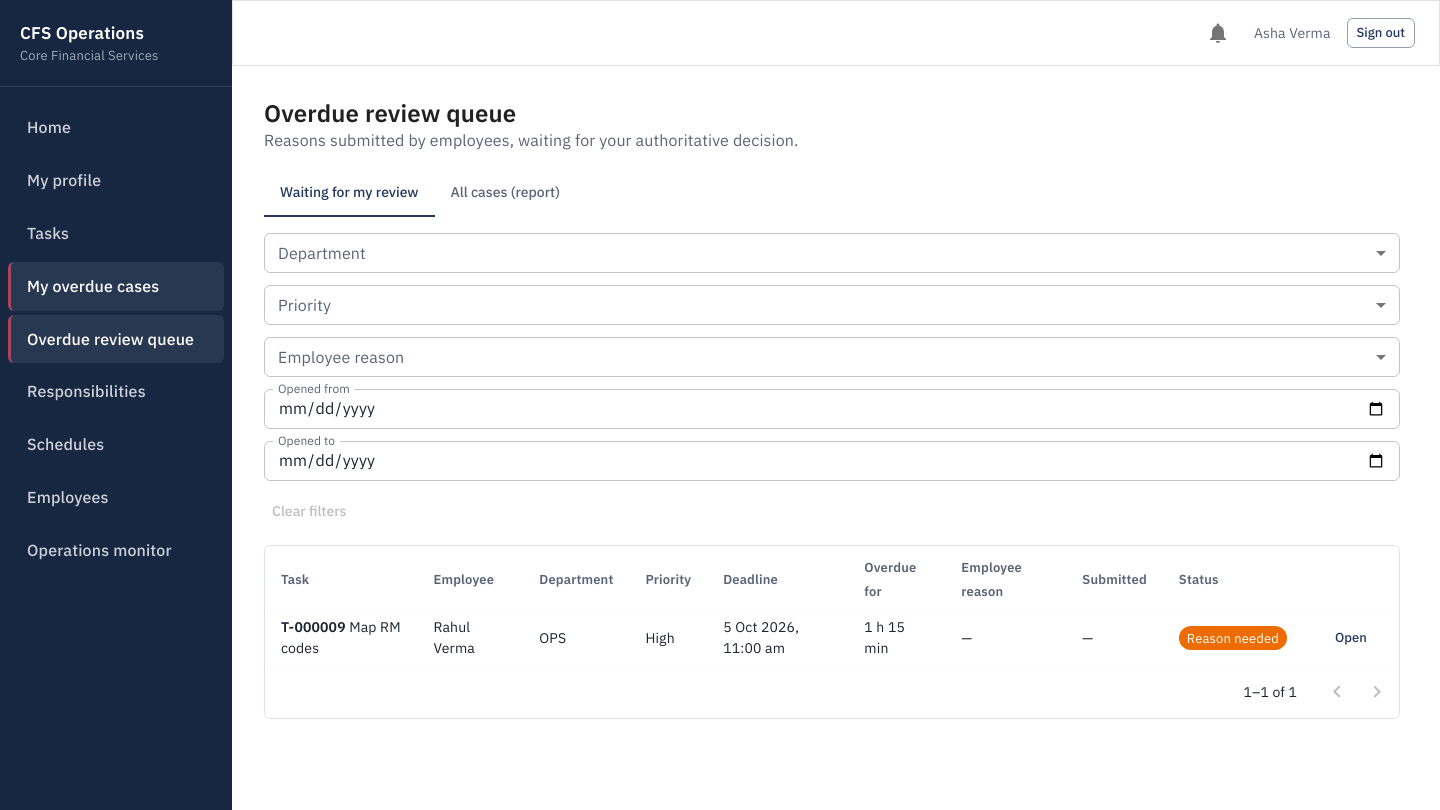
Test: Overdue report and export (Stage 5.3) › an Operations Manager sees the scoped report but no export controls
What coordinates should you click on to do the following:
click the tab "All cases (report)"
I would click on:
 (505, 193)
Its box is [435,169,576,217].
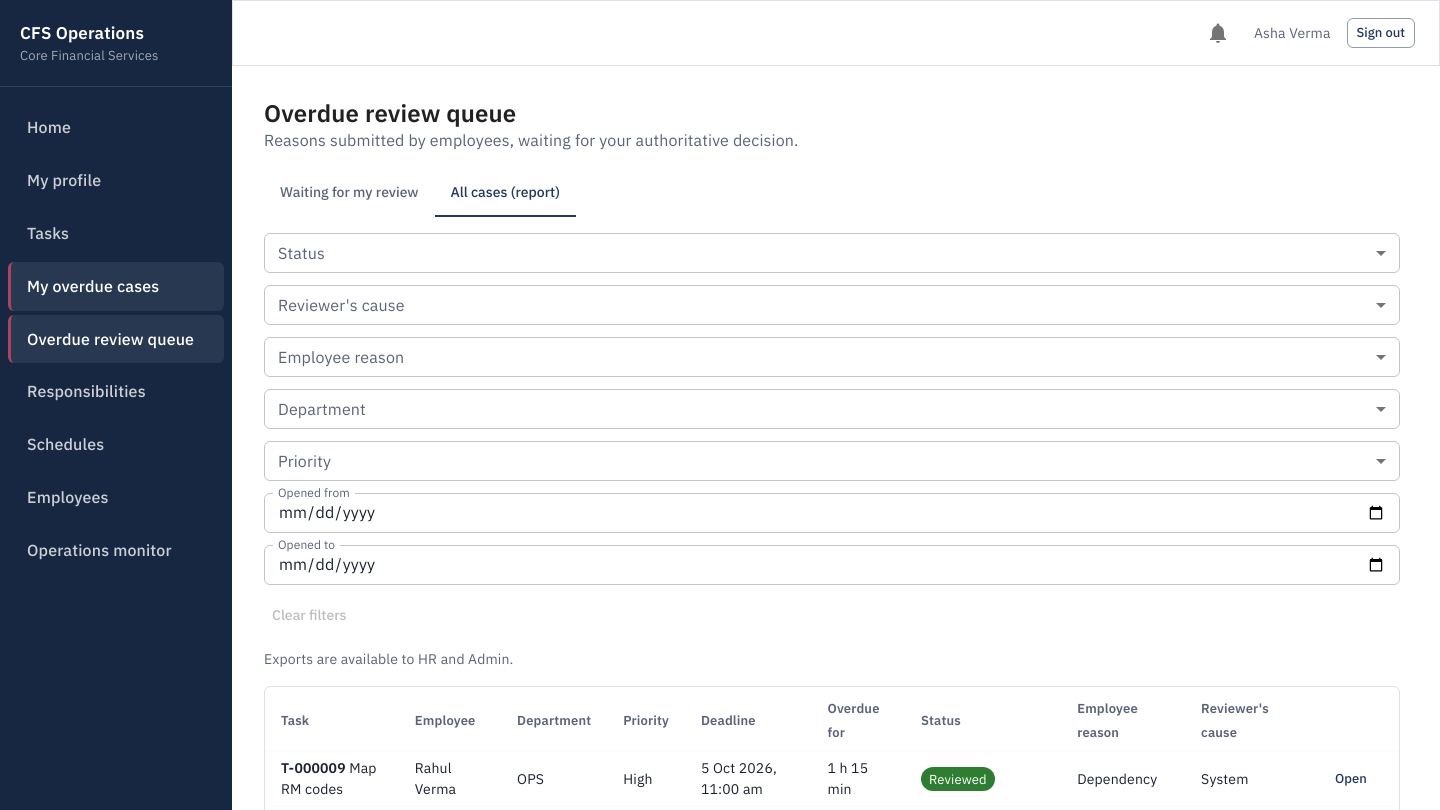
Check: the text "System" is shown, box [1185,752,1303,807]
Check: the text "Exports are available to HR and Admin." is shown, box [264,649,514,670]
